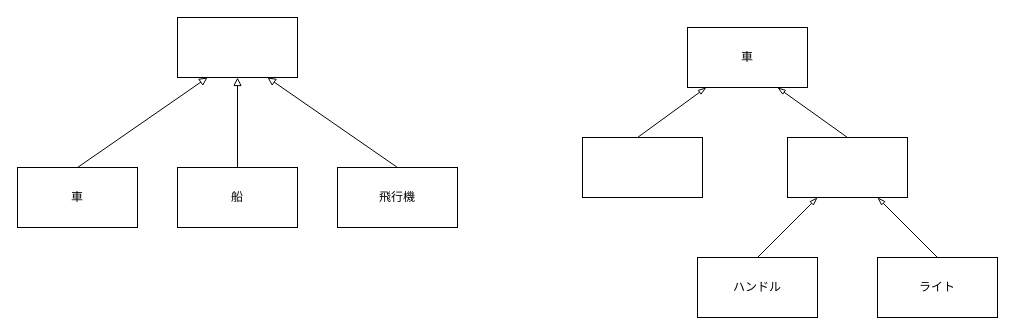
The diagram is 1015 pixels wide and 335 high, and some of its shapes have lost their labels. The centre of each missing label's shape, as x and y in pixels:
"エンジン" belongs at pixel 642 167.
"ボディ" belongs at pixel 847 167.
"乗り物" belongs at pixel 237 47.
